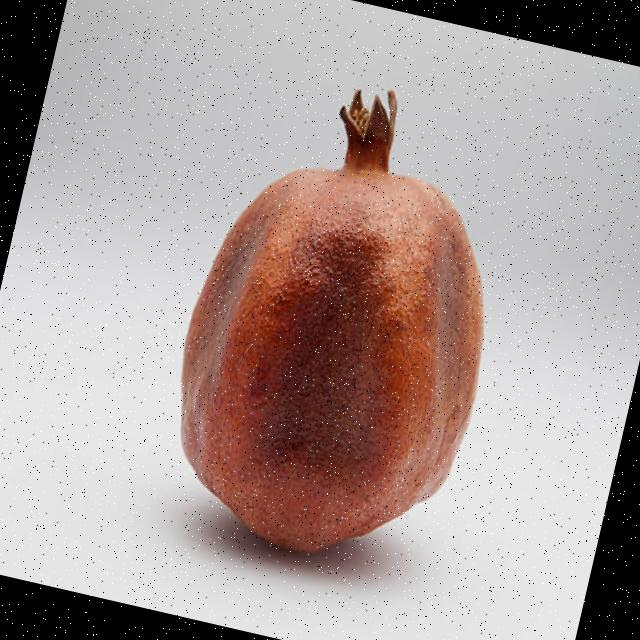overripe: (137, 41, 548, 586)
